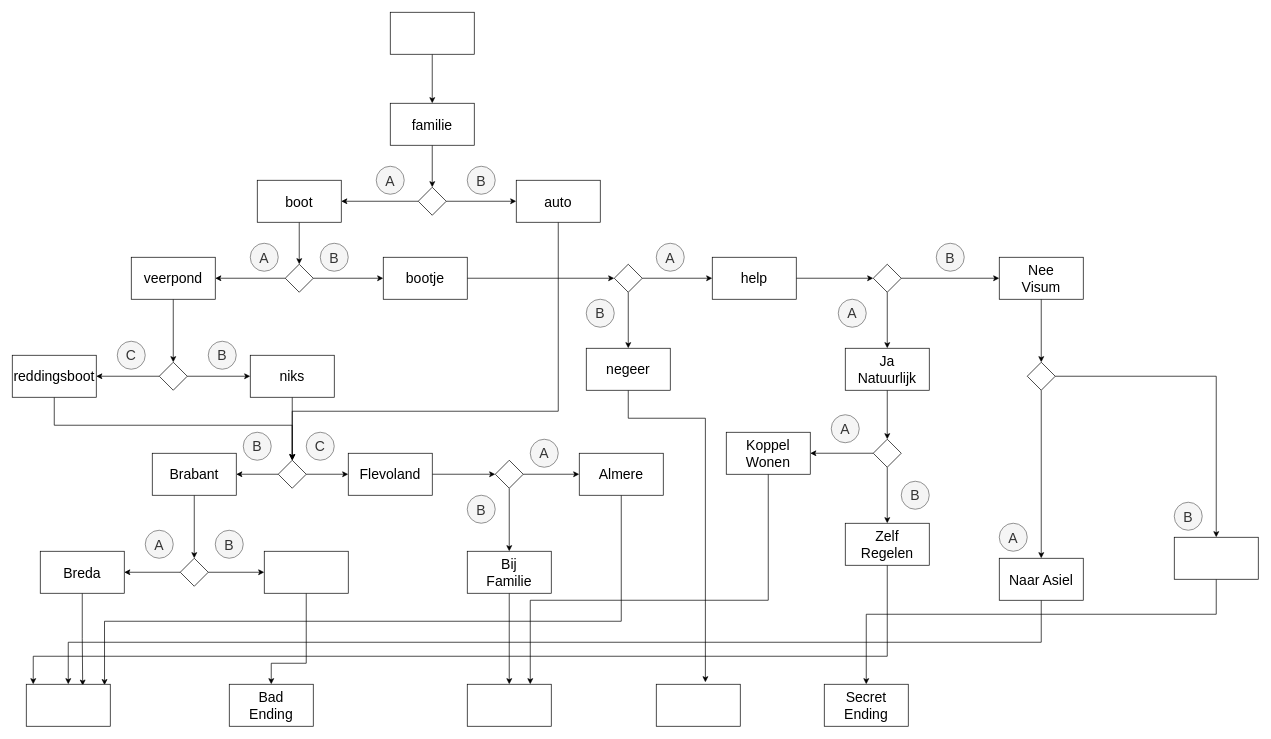
Some shapes in this 1271 by 739 pixel diagram are drawn without their labels. The box of each missing label's shape, as (x1, y1, x2, y2) in pixels:
bijVrienden: (264, 551, 348, 593)
Good Ending: (467, 684, 551, 726)
intro: (390, 12, 474, 54)
inversteer: (1174, 537, 1258, 579)
Neutral Ending: (26, 684, 110, 726)
Try Again Ending: (656, 684, 740, 726)
